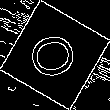O_E: (25, 28, 85, 82)
